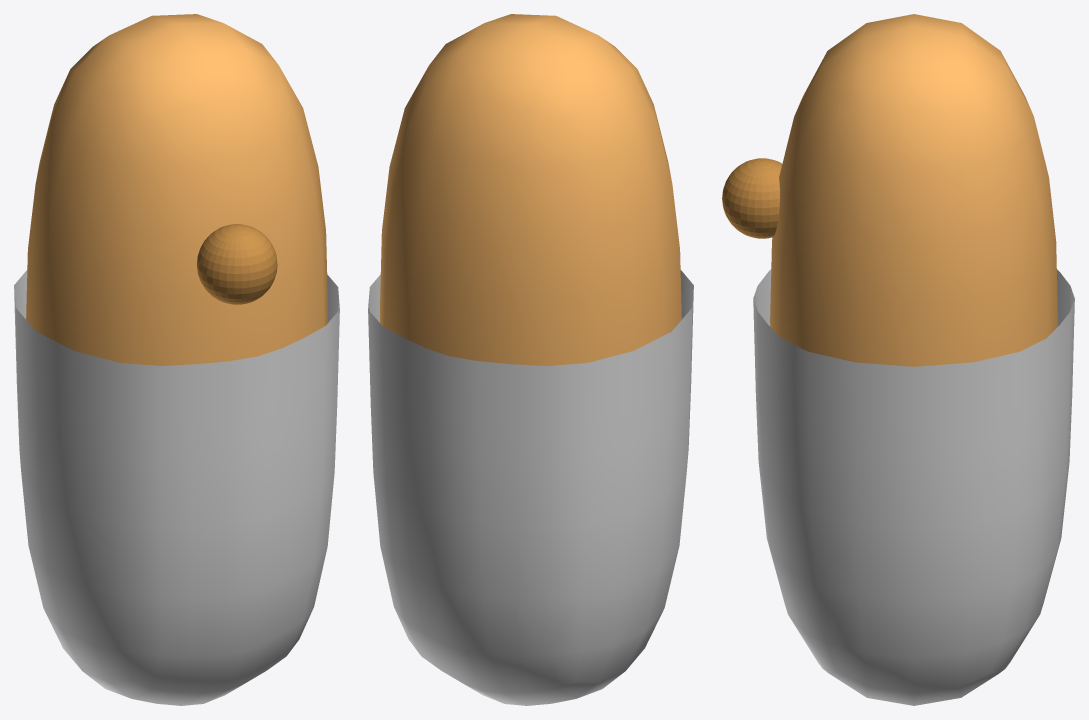
File: bosscharacter 1.fbx
The picture shows the model from 3 angles, left to right: view 1: azimuth 30°, elevation 25°; view 2: azimuth 150°, elevation 25°; view 3: azimuth 270°, elevation 25°; orthographic projection.
Parts seen in each view (by area): view 1: Cube.001, Cube, Sphere; view 2: Cube.001, Cube; view 3: Cube.001, Cube, Sphere.
Part boxes in pixels (box(x1,y1,x2,y2)): Cube.001: box(14, 270, 339, 705); Cube: box(26, 14, 327, 365); Sphere: box(197, 224, 277, 304); Cube.001: box(368, 270, 693, 705); Cube: box(380, 14, 681, 365); Cube.001: box(753, 269, 1074, 705); Cube: box(770, 14, 1057, 366); Sphere: box(722, 158, 782, 238).
Size of the model in its own units: 120 by 273 by 131.
